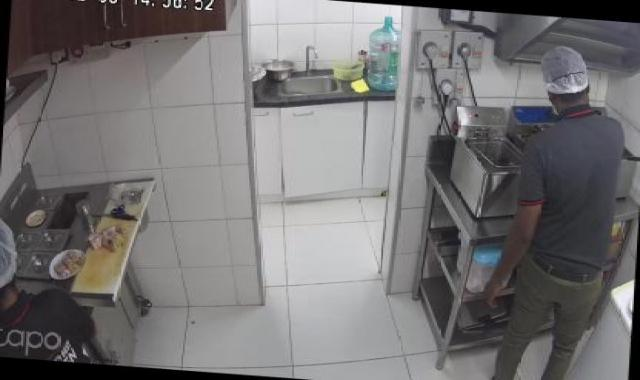hairnet: (526, 44, 600, 105)
